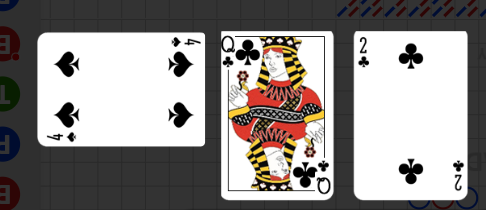2C: (357, 35, 371, 70)
4S: (45, 130, 79, 143), (169, 35, 202, 48)
QC: (223, 31, 267, 78), (290, 152, 334, 198)
